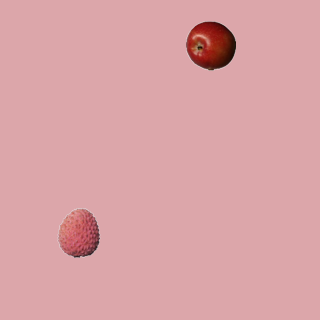Apple Braeburn: (185, 20, 235, 70)
Lychee: (53, 207, 103, 257)
